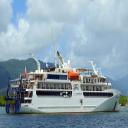cruises: (5, 52, 122, 116)
